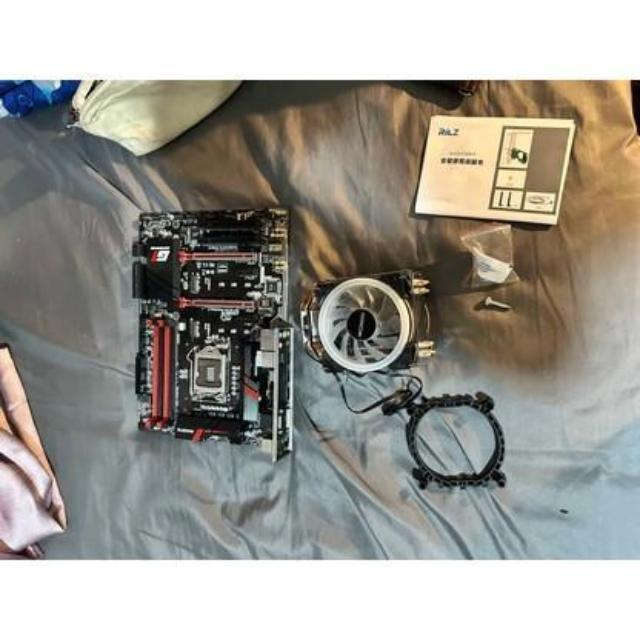CPU_Fan: (303, 271, 432, 377)
Mainboard: (124, 199, 304, 461)
